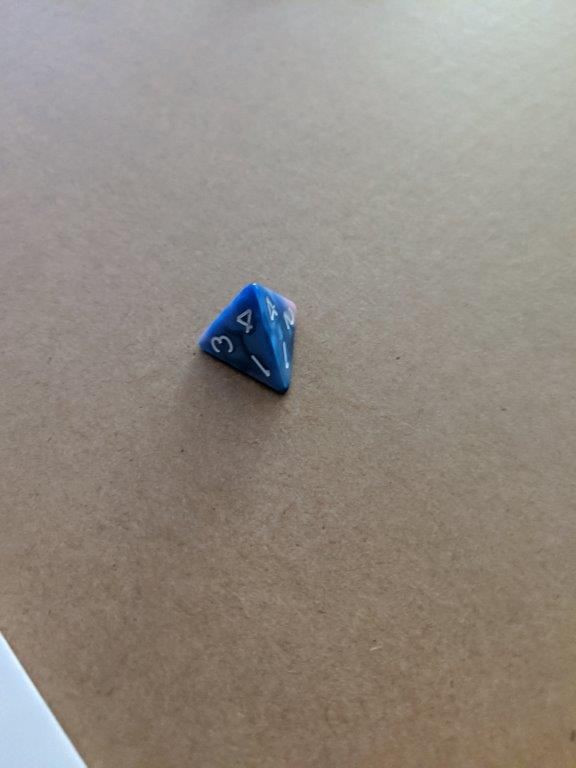d4-4: (194, 281, 303, 400)
